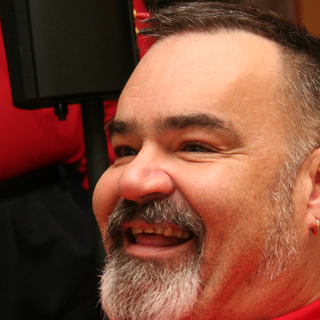eye: (171, 135, 225, 160), (108, 139, 143, 164)
